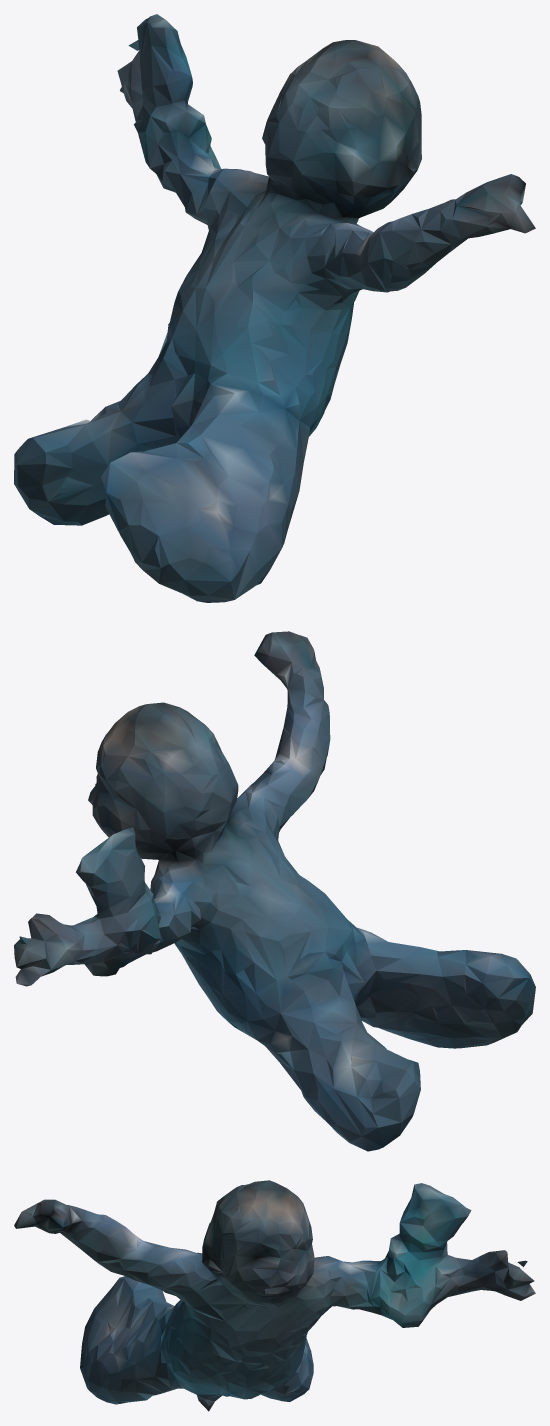
The model's file is nirvana_nevermind.obj.
3 views of the same model, one above another, from view 1: azimuth 30°, elevation 25°; view 2: azimuth 150°, elevation 25°; view 3: azimuth 270°, elevation 25° (orthographic). The views are drawn at different scales.
Visible parts, largest first — view 1: ia; view 2: ia; view 3: ia.
Part boxes in pixels (x1,y1,x2,y2): ia: (14,14,535,602); ia: (14,631,535,1151); ia: (14,1180,535,1411).
Bounding box in the file's own units: 0.3807 × 0.3834 × 0.6.
